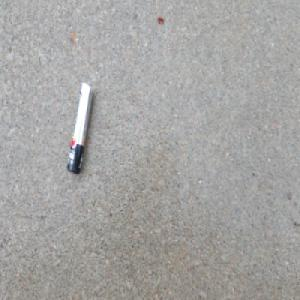Battery: (65, 79, 94, 174)
